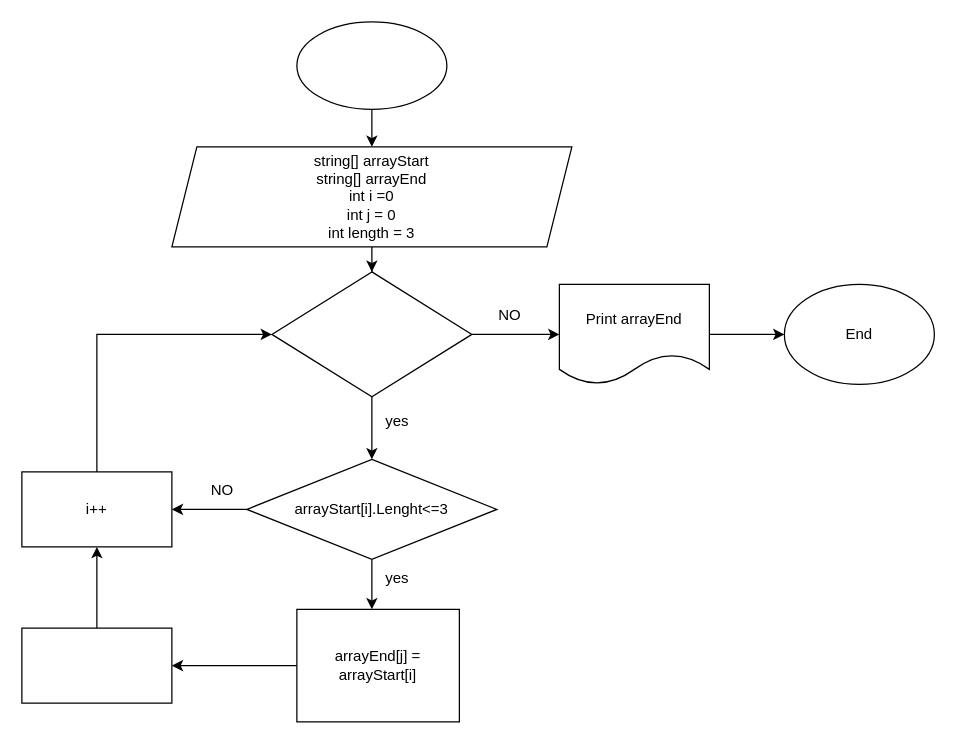
This 956x744 diagram has some shape labels left out. The shapes that lost their labels are listed below. From the top down, each one's centre as x and y in pixels, then its label:
At (371,65): "Start".
At (371,334): "i<arrayStart.Lenght".
At (96,665): "j++".
